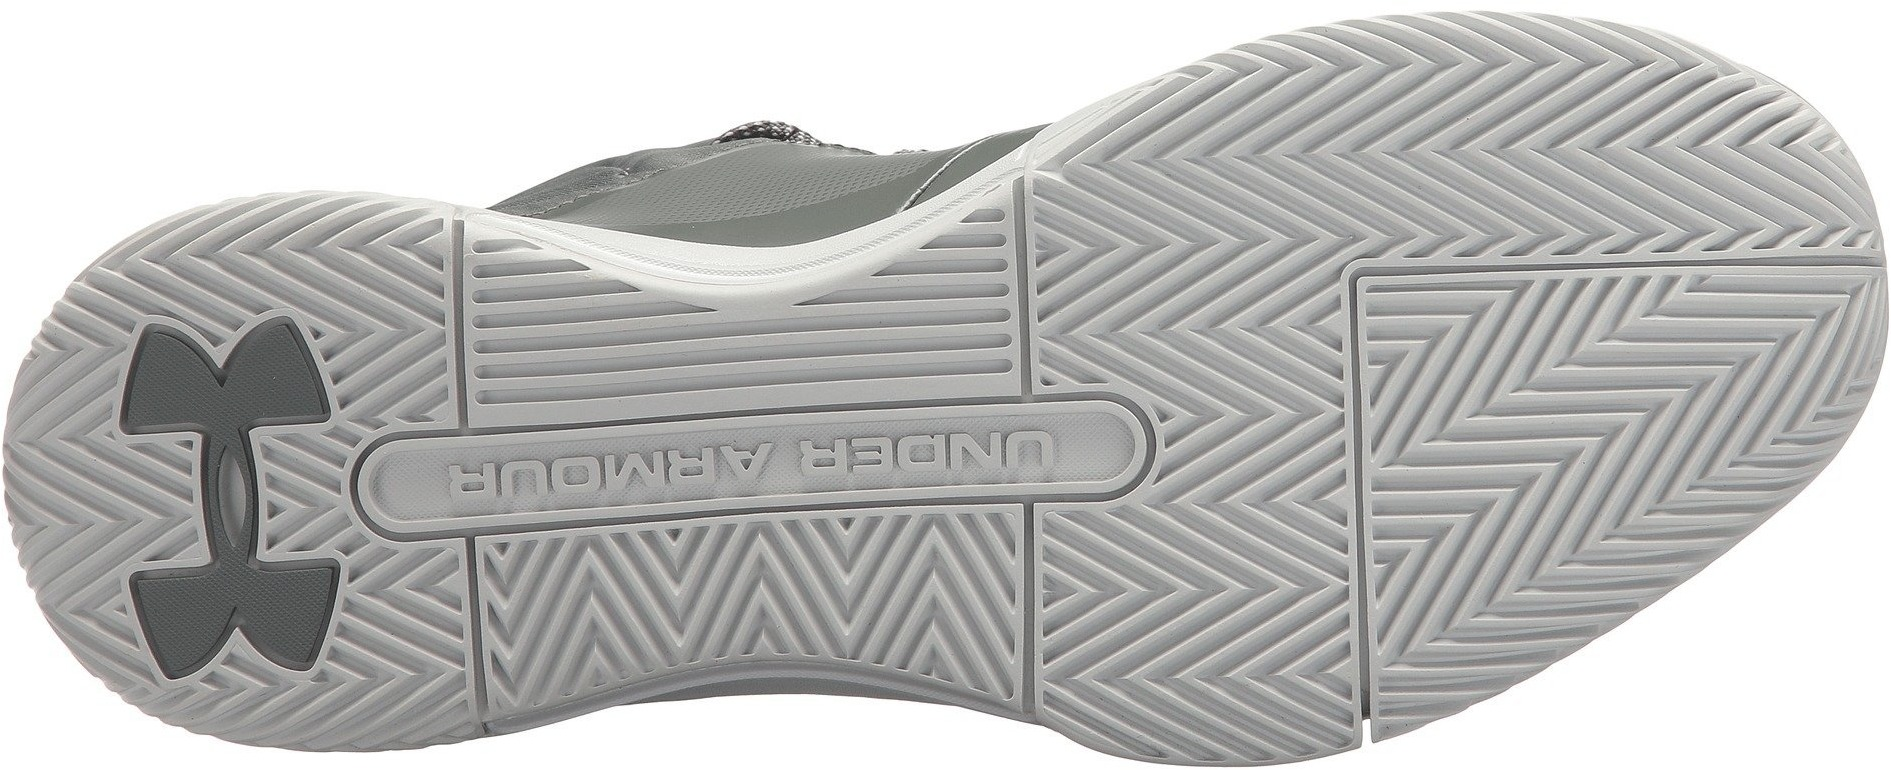chevron: (466, 504, 1035, 742)
